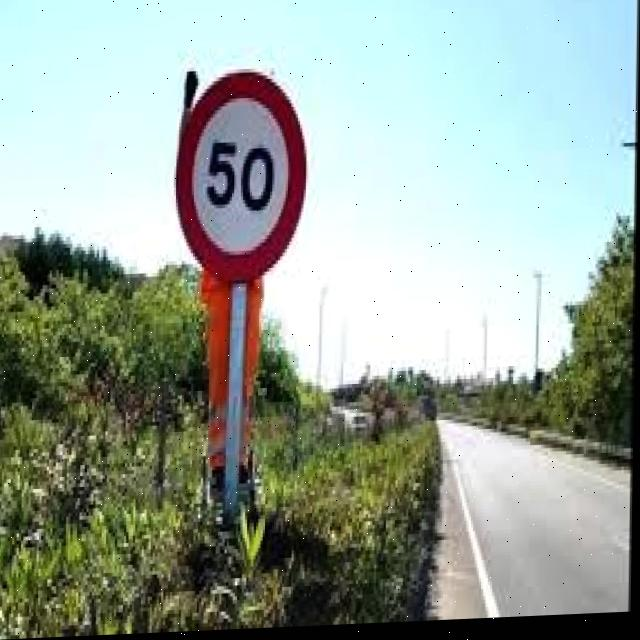Speed limit 50: (172, 66, 311, 286)
